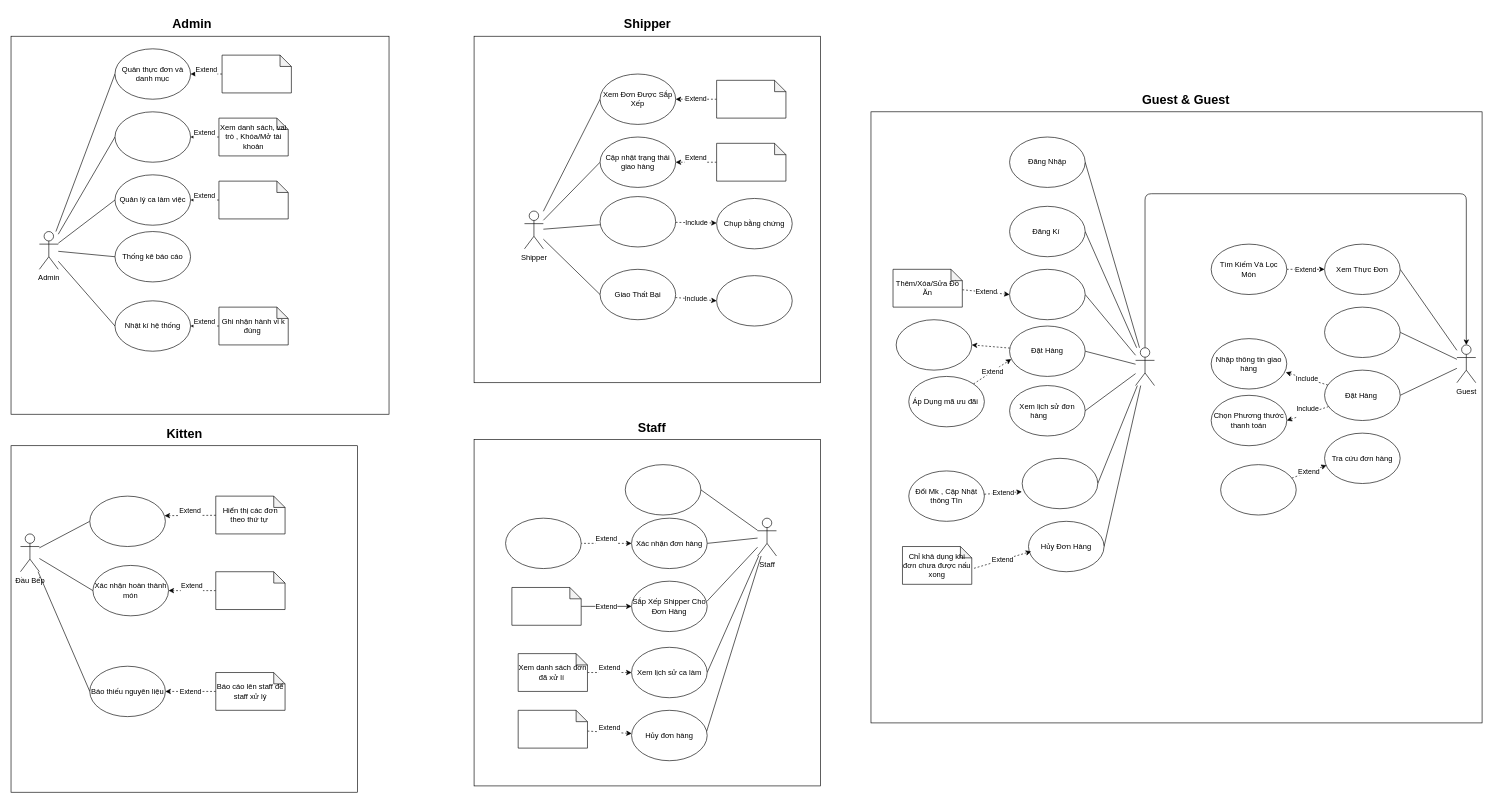
This 1493x803 diagram has some shape labels left out. Each missing label, with the centre of its shape:
"Bếp nút hoàn thành món ở màn hình web" belongs at [250,590].
"Chỉ có thể thực hiện sau khi đơn đã sẵn sàng" belongs at [546,606].
"Chọn lý do" belongs at [754,300].
"Hủy đơn khi đơn giao thất bại" belongs at [552,729].
"Kiểm tra tồn kho hệ thống" belongs at [543,543].
"Nhập Mã đơn" belongs at [1258,489].
"Quản Lí GIỏ Hàng" belongs at [1047,294].
"Quản Lí Hồ Sơ" belongs at [1060,483].
"Quản lý người dùng và phân quyền" belongs at [152,136].
"Toàn quyền Thêm/Sửa/Xóa món và chỉnh sửa danh mục" belongs at [256,73].
"Tạo và chia ca cho Staff/Ship/Kitten" belongs at [253,199].
"Tự động điền thông tin đã được lưu" belongs at [934,344].
"User" belongs at [1144,366].
"Xem Chi tiết món ăn" belongs at [1362,332].
"Xem Danh Sách Món Cần Nấu" belongs at [127,521].
"Xem Danh đơn chờ xử lý" belongs at [663,489].
"Xem đơn đã đc staff gắn" belongs at [751,99].
"Xác Nhận GIao thành công" belongs at [637,221].
"Đã Lấy/Đang Giao Đơn" belongs at [751,162].
